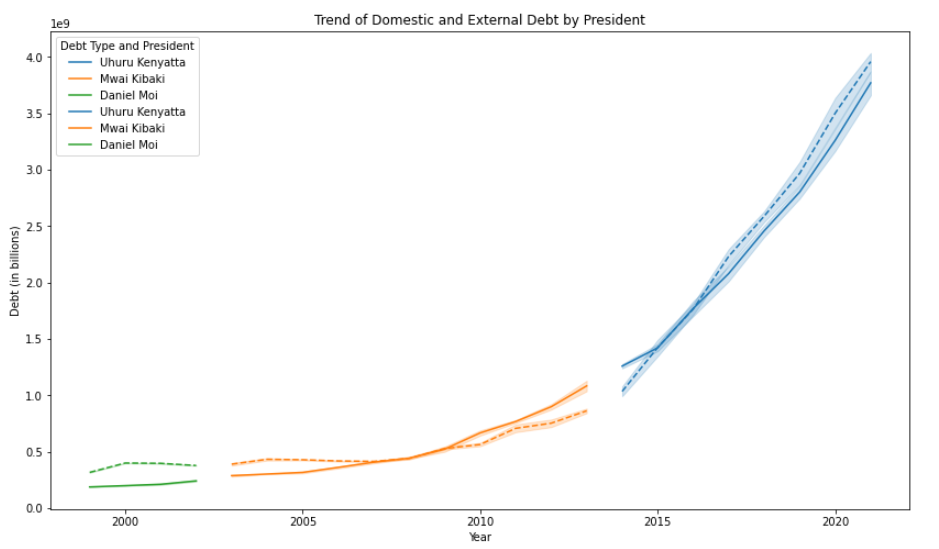

The dashboard page shown, as its layout file describes it:
{"tool":"powerbi","page":{"name":"Page 3","canvas":[1280,720],"ordinal":2},"visuals":[{"type":"lineChart","fields":{"Y":["Sum(External_debt.External Debt)","Sum(Domestic_debt.Domestic Debt)","Sum(Total_debt.Total)"],"Category":["Date.Year"]},"box":[9.8,0,1270.5,720.2],"z":0}]}

Visuals, with their boxes on the page's 1280x720 design canvas (x1, y1, x2, y2). These are canvas units, not pixel positions in the 939x549 screenshot, which may show the page scaled, cropped or inside an application window:
lineChart - Sum(External_debt.External Debt) x Sum(Domestic_debt.Domestic Debt): box=[10, 0, 1280, 720]
